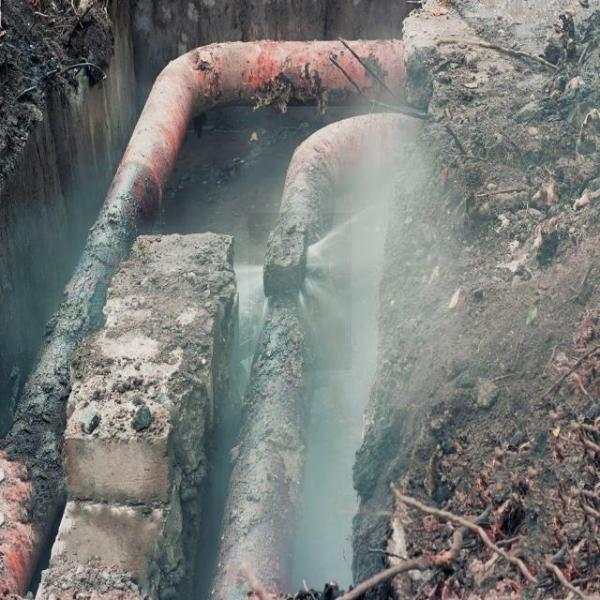water: (248, 214, 352, 371)
